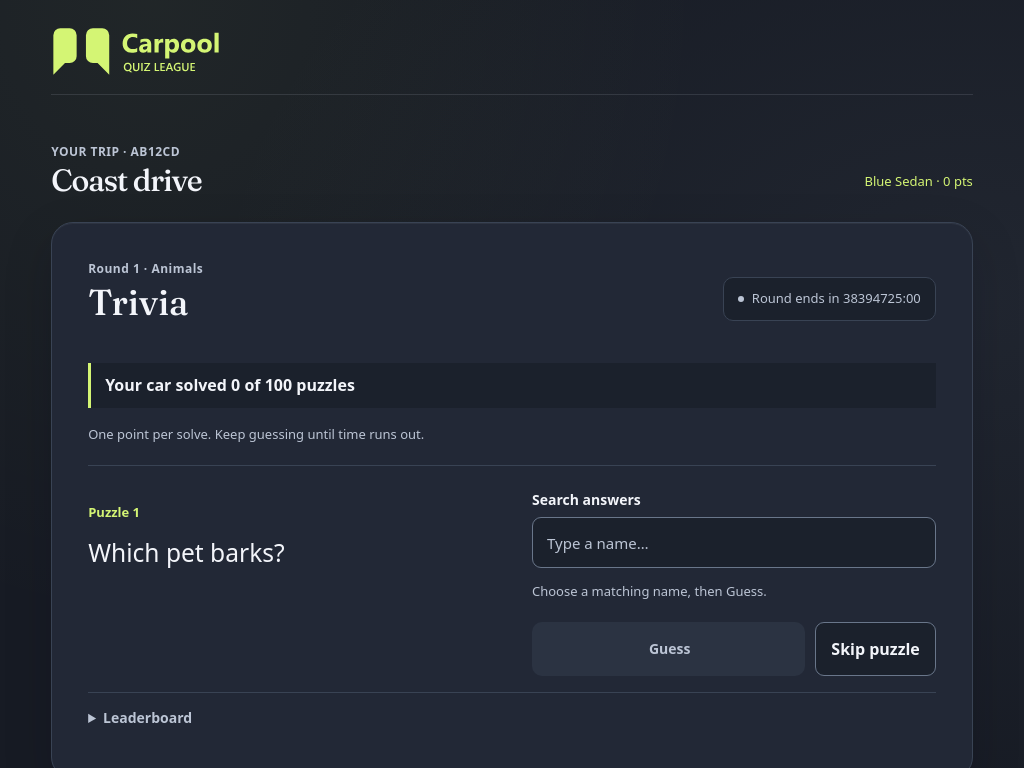
keeps correct puzzle feedback visible after advancing to the next puzzle
Type "Dog" into the field labelled "Search answers" at (734, 543), box [532,517,936,568]
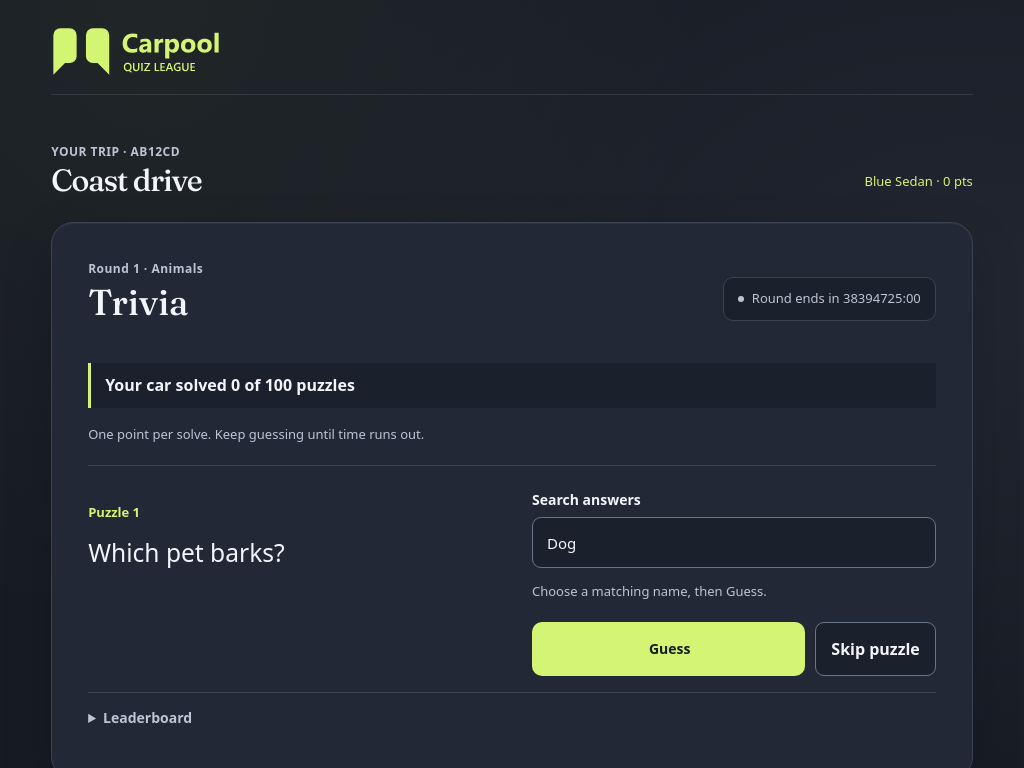
Click the button "Guess" at (669, 649), box [532,622,805,676]
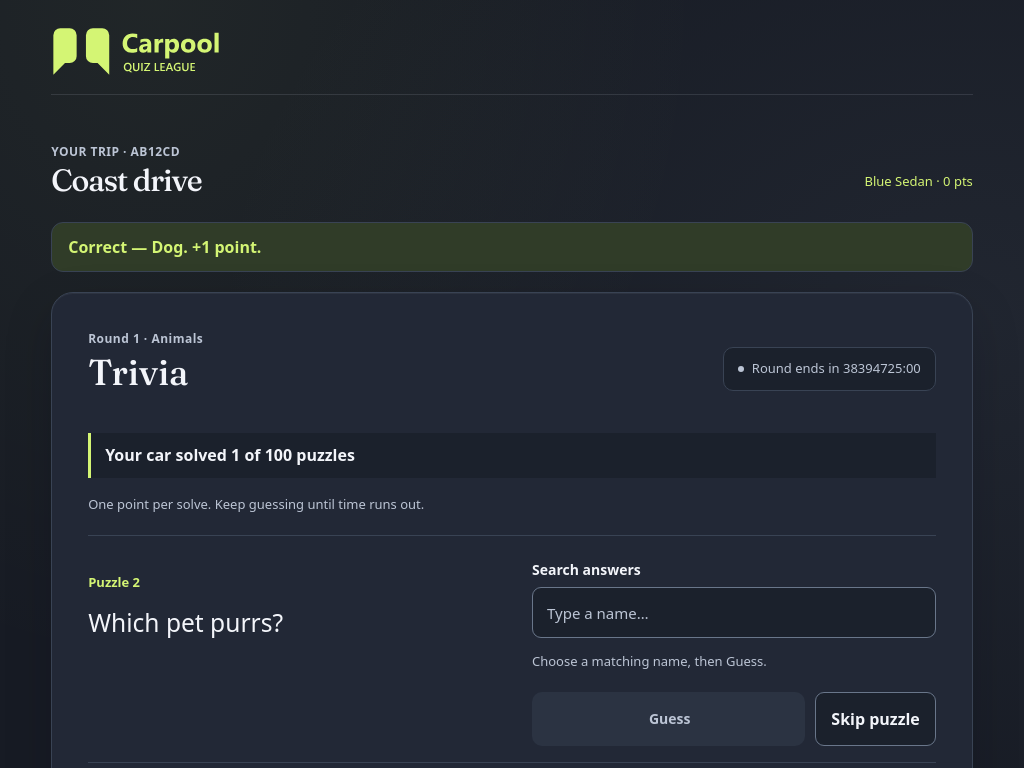
Expected: the text "Correct — Dog. +1 point." is shown, [51,222,973,272]
Expected: the text "Which pet purrs?" is shown, [88,606,283,639]
